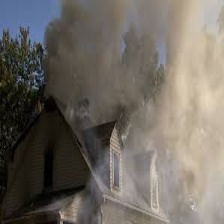smoke: (58, 6, 222, 224)
